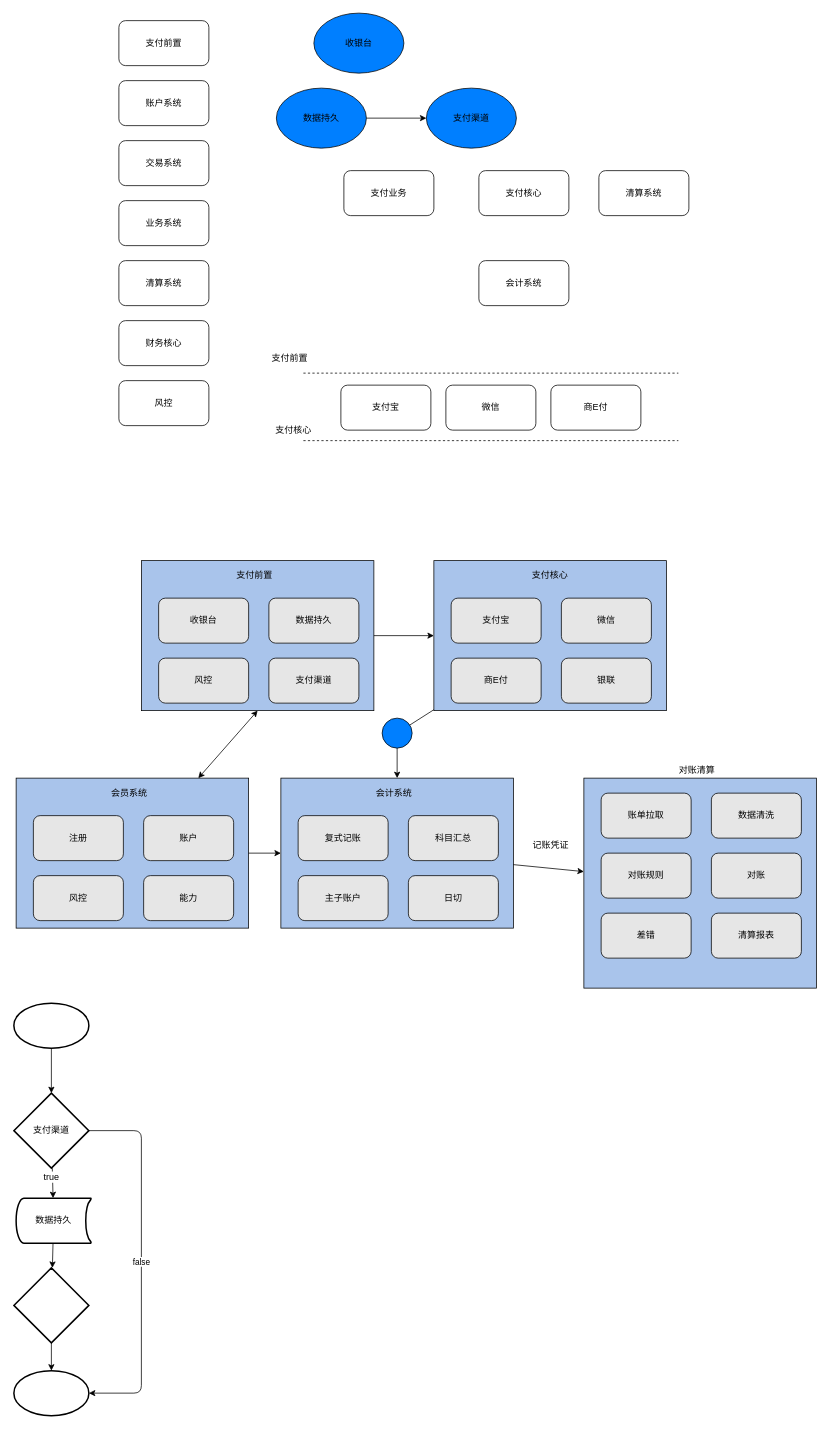
This 830x1430 diagram has some shape labels left out. Each missing label, with the centre of its shape:
"end" goes at point 51,1393.
"start" goes at point 51,1025.
"异步" goes at point 396,732.
"渠道风控" goes at point 51,1305.
